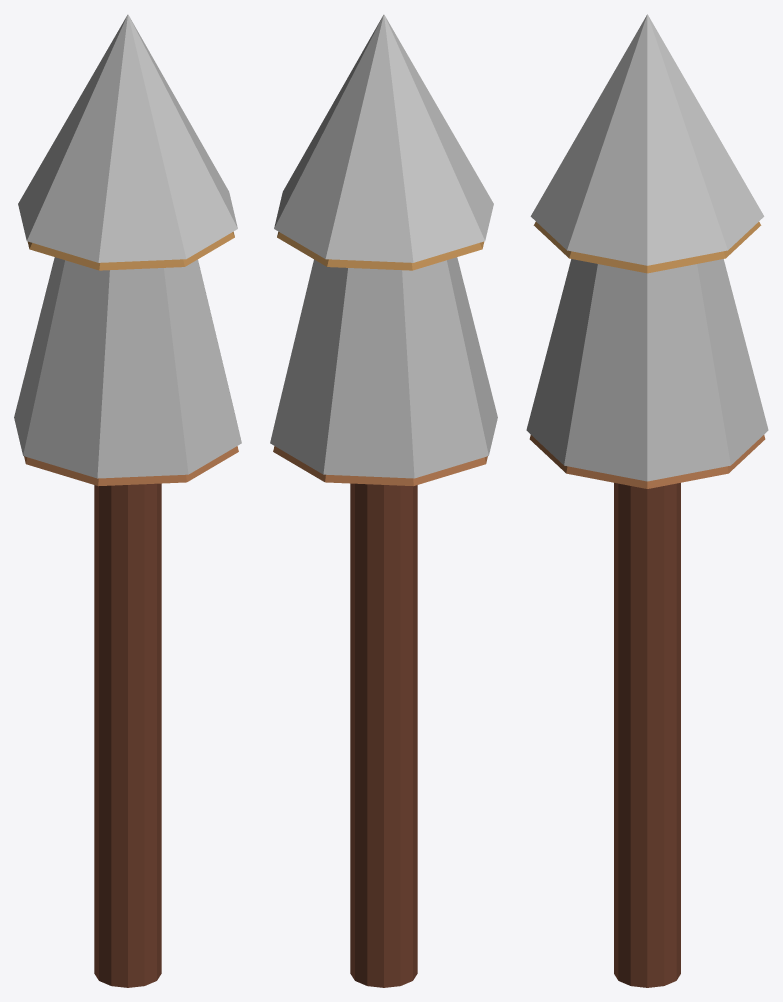
The model's file is Tree_21_winter_gradient_yellow_vc.fbx.
3 views of the same model, side by side, from view 1: azimuth 30°, elevation 25°; view 2: azimuth 150°, elevation 25°; view 3: azimuth 270°, elevation 25° (orthographic).
Visible parts, largest first — view 1: Tree_21_winter_gradient_yellow_vc; view 2: Tree_21_winter_gradient_yellow_vc; view 3: Tree_21_winter_gradient_yellow_vc.
Boxes of the visible parts, x1,y1,x2,y2 form: Tree_21_winter_gradient_yellow_vc: (14,14,241,987); Tree_21_winter_gradient_yellow_vc: (270,14,497,987); Tree_21_winter_gradient_yellow_vc: (526,14,768,987).
Size of the model in its own units: 80.03 by 350 by 80.03.
